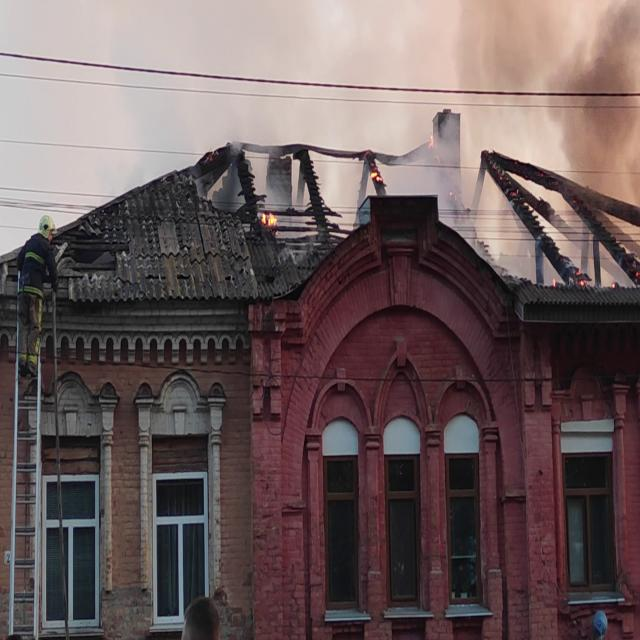smoke: (557, 0, 640, 183), (416, 134, 465, 210)
